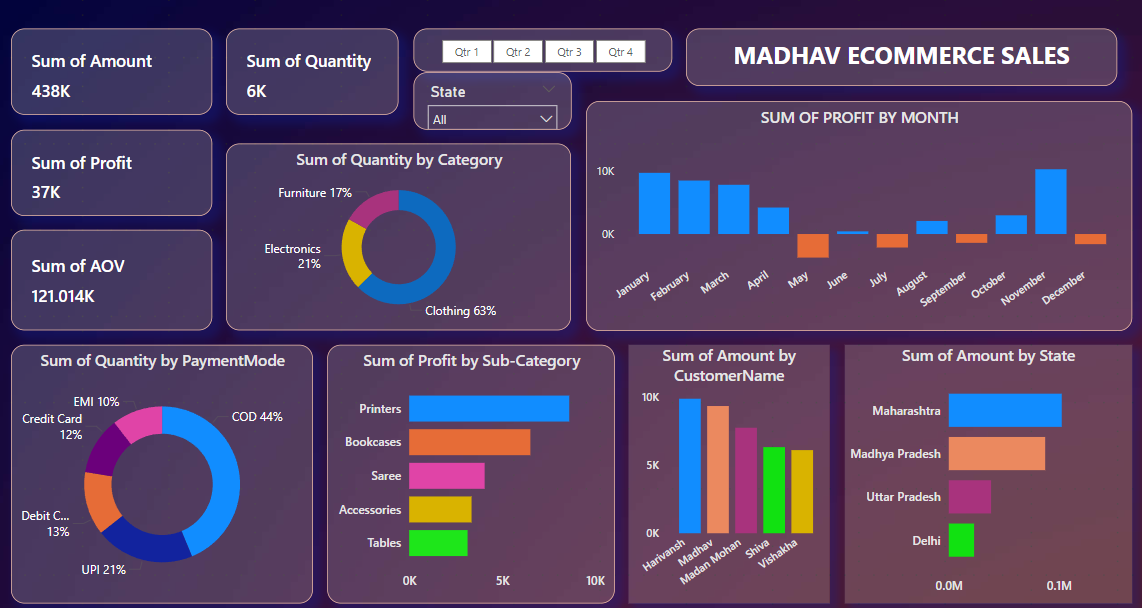

What the dashboard file says about the page in this screenshot:
{"tool":"powerbi","page":{"name":"Page 1","canvas":[1280,720],"ordinal":0},"visuals":[{"type":"columnChart","title":"SUM OF PROFIT BY MONTH","fields":{"Category":["Orders.Order Date.Variation.Date Hierarchy.Month"],"Y":["Details.Profit"]},"box":[656,144,608,256],"z":0},{"type":"barChart","fields":{"Y":["Details.Profit"],"Category":["Details.Sub-Category"]},"box":[368,416,320,288],"z":1000},{"type":"textbox","box":[768,64,480,64],"z":2000},{"type":"donutChart","fields":{"Category":["Details.Category"],"Y":["Details.Quantity"]},"box":[256,192,384,208],"z":3000},{"type":"donutChart","fields":{"Y":["Details.Quantity"],"Category":["Details.PaymentMode"]},"box":[16,416,336,288],"z":4000},{"type":"cardVisual","fields":{"Data":["Details.Amount"]},"box":[16,64,224,96],"z":5000},{"type":"cardVisual","fields":{"Data":["Details.Profit"]},"box":[16,176,224,96],"z":6000},{"type":"cardVisual","fields":{"Data":["Details.Quantity"]},"box":[256,64,192,96],"z":7000},{"type":"cardVisual","fields":{"Data":["Details.AOV"]},"box":[16,288,224,112],"z":8000},{"type":"barChart","fields":{"Category":["Orders.State"],"Y":["Details.Amount"]},"box":[944,416,320,288],"z":9000},{"type":"columnChart","fields":{"Category":["Orders.CustomerName"],"Y":["Details.Amount"]},"box":[704,416,224,288],"z":10000},{"type":"slicer","fields":{"Values":["Orders.Order Date.Variation.Date Hierarchy.Quarter"]},"box":[464,64,288,48],"z":11000},{"type":"slicer","fields":{"Values":["Orders.State"]},"box":[464,112,176,64],"z":12000}]}

Visuals, with their boxes in screenshot pixels (x1, y1, x2, y2):
"SUM OF PROFIT BY MONTH" columnChart: <region>583, 99, 1126, 328</region>
barChart - Details.Profit x Details.Sub-Category: <region>326, 342, 612, 599</region>
textbox: <region>683, 27, 1112, 85</region>
donutChart - Details.Category x Details.Quantity: <region>226, 142, 569, 328</region>
donutChart - Details.Quantity x Details.PaymentMode: <region>11, 342, 311, 599</region>
cardVisual - Details.Amount: <region>11, 27, 211, 113</region>
cardVisual - Details.Profit: <region>11, 127, 211, 213</region>
cardVisual - Details.Quantity: <region>226, 27, 397, 113</region>
cardVisual - Details.AOV: <region>11, 227, 211, 328</region>
barChart - Orders.State x Details.Amount: <region>840, 342, 1126, 599</region>
columnChart - Orders.CustomerName x Details.Amount: <region>626, 342, 826, 599</region>
slicer - Orders.Order Date.Variation.Date Hierarchy.Quarter: <region>411, 27, 669, 70</region>
slicer - Orders.State: <region>411, 70, 569, 127</region>
